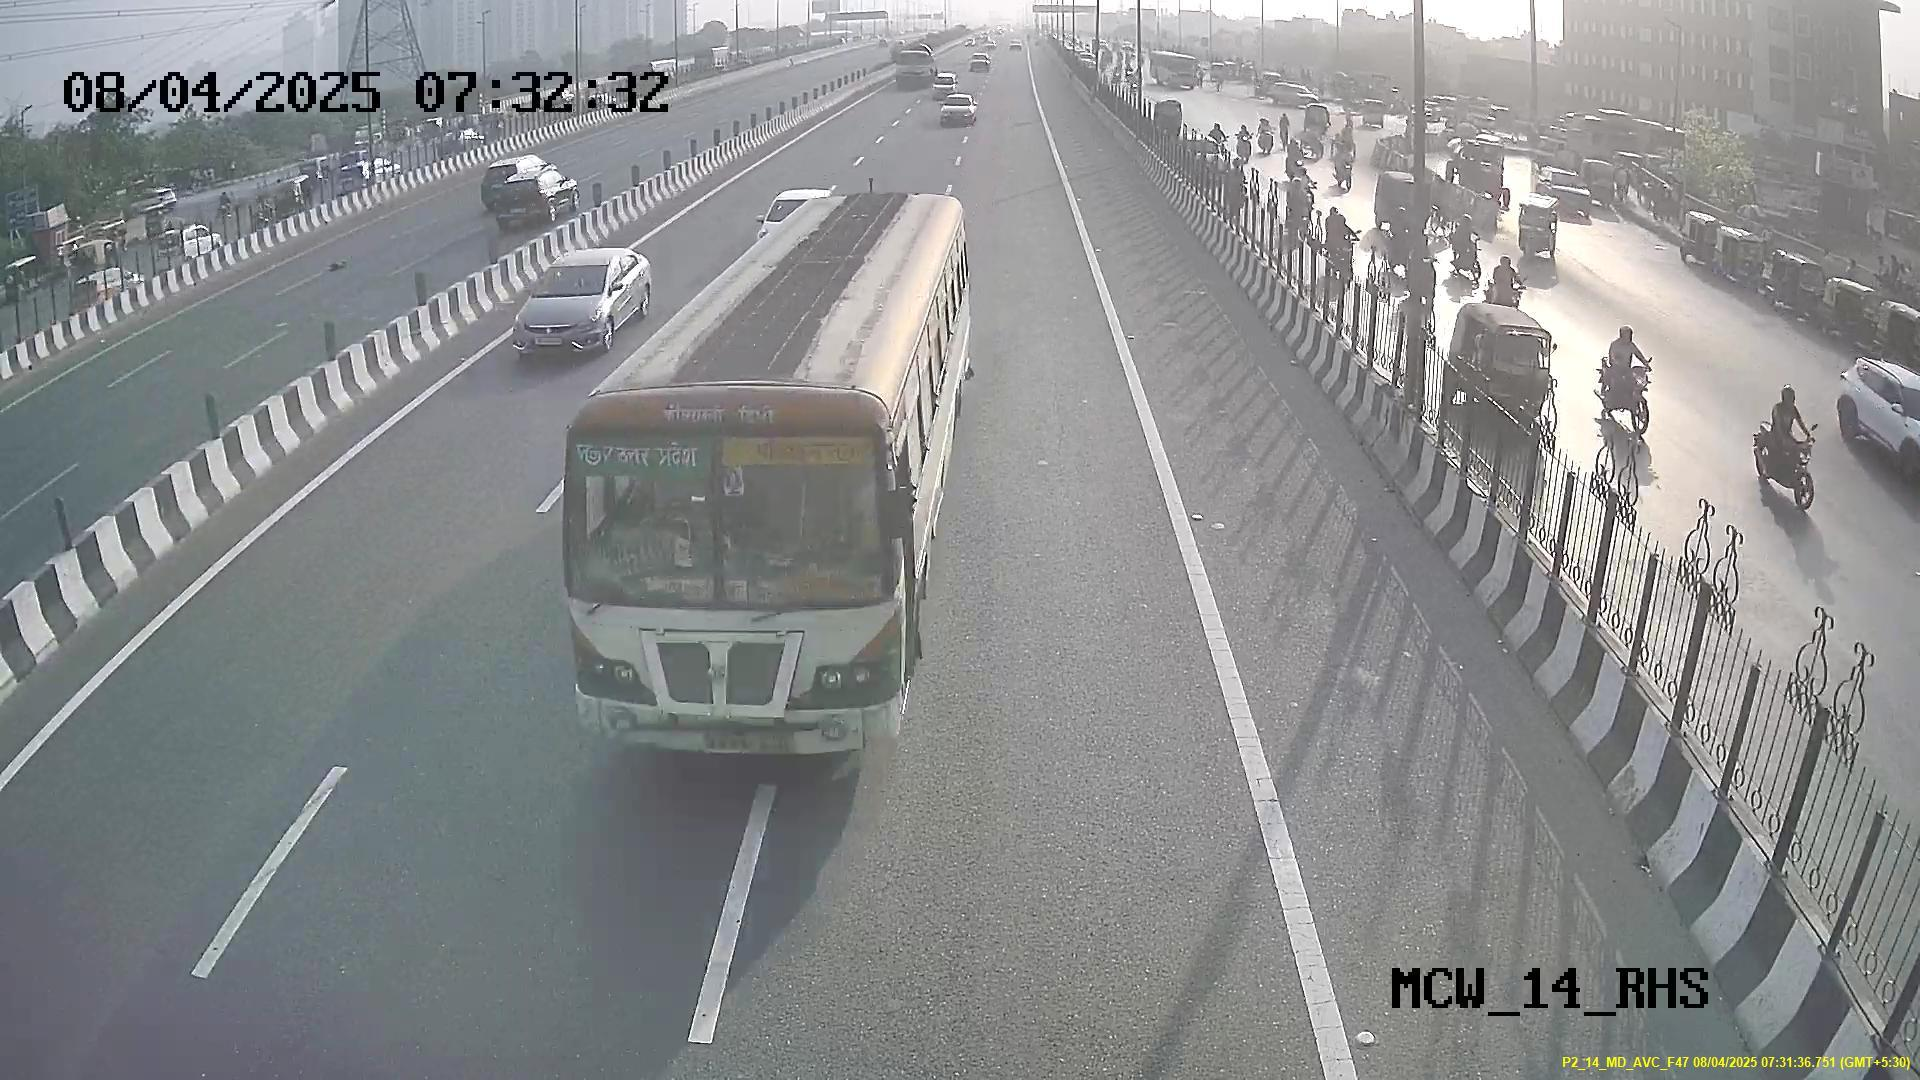bus: (562, 302, 922, 762)
car: (520, 247, 628, 359)
